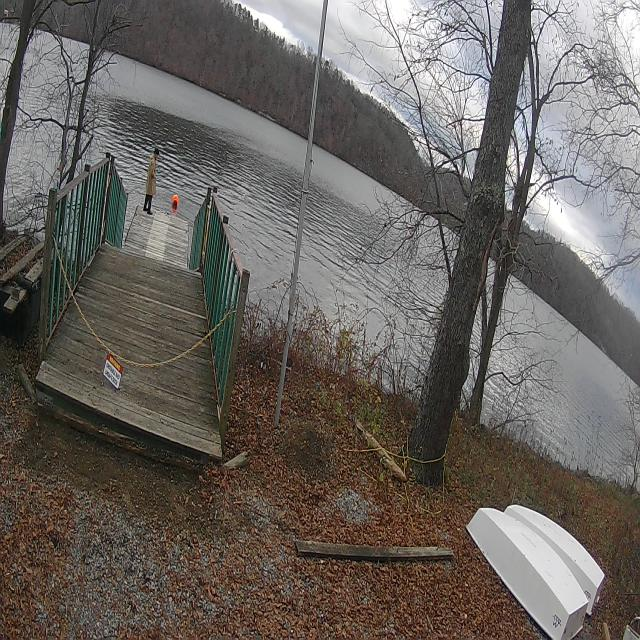Buoy: (166, 183, 184, 220)
